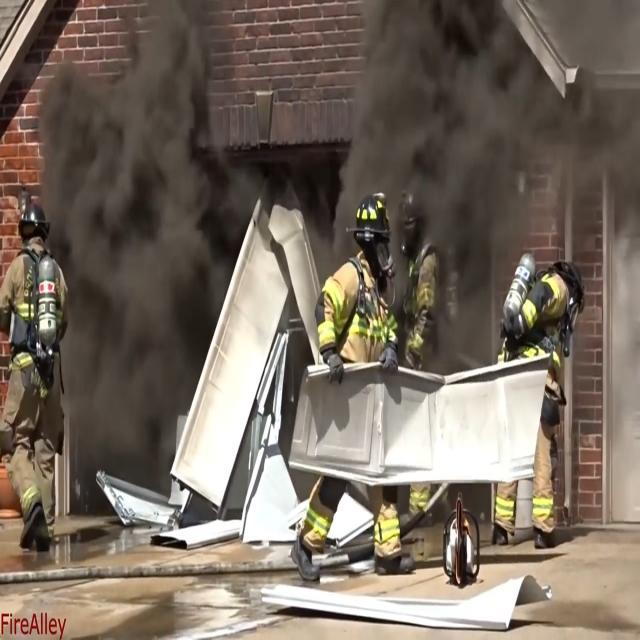Smoke: (51, 68, 206, 396), (357, 25, 519, 192)
